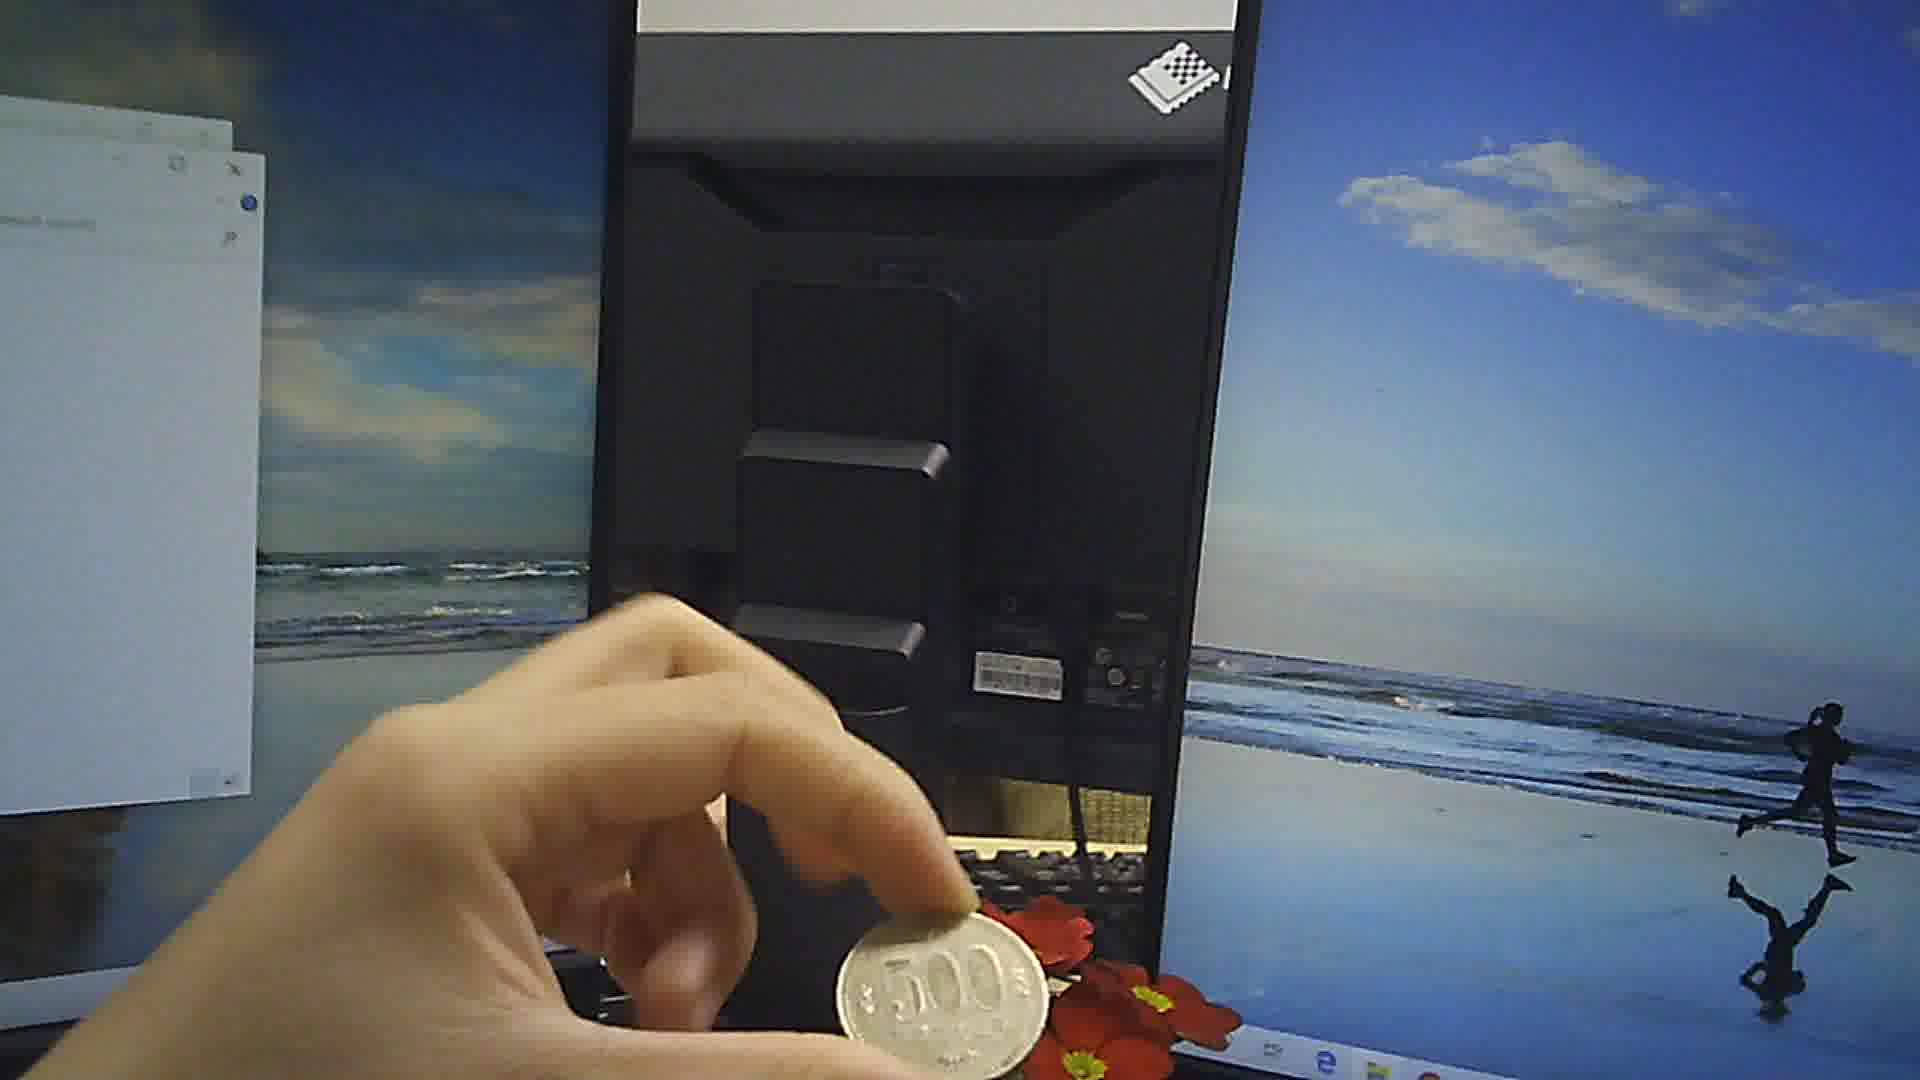500 Yen: (832, 905, 1051, 1079)
